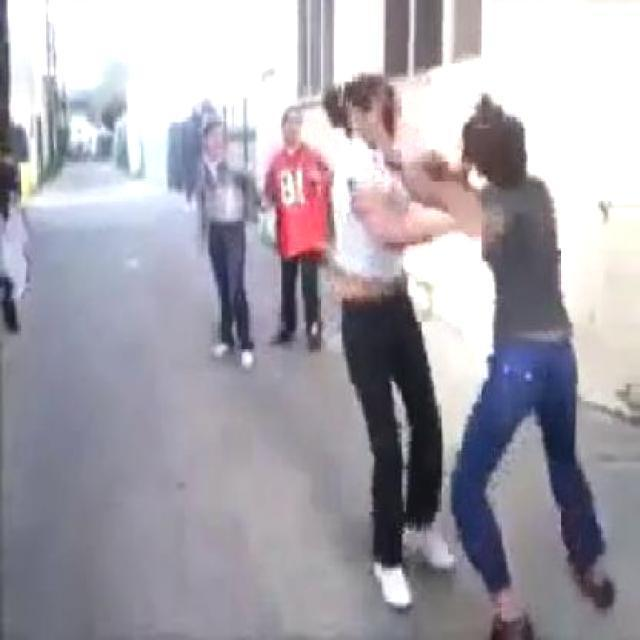fight: (320, 64, 622, 638)
